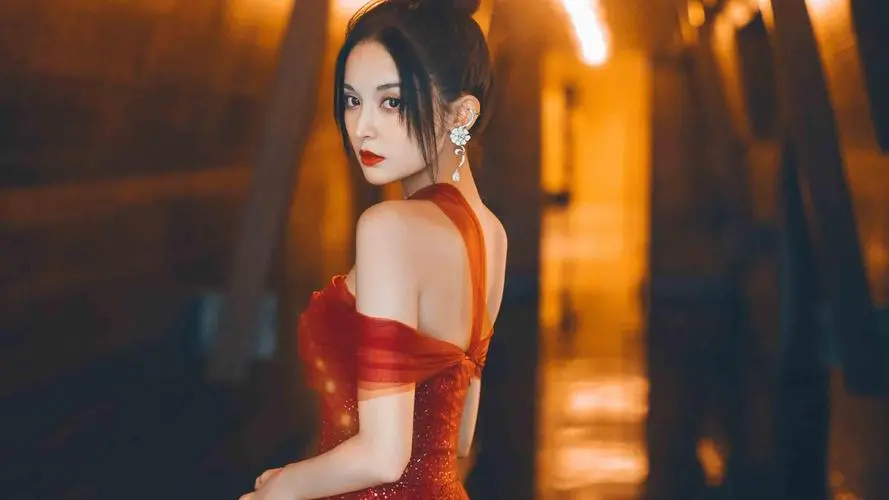withoutmask: (321, 9, 502, 198)
